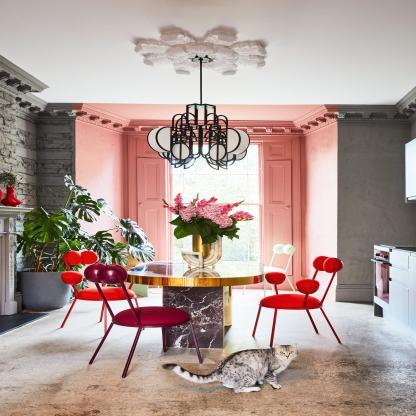chair: (71, 262, 204, 378), (249, 254, 349, 349), (52, 247, 147, 332), (245, 241, 298, 300)
light: (119, 25, 292, 174)
table: (120, 254, 268, 359)
